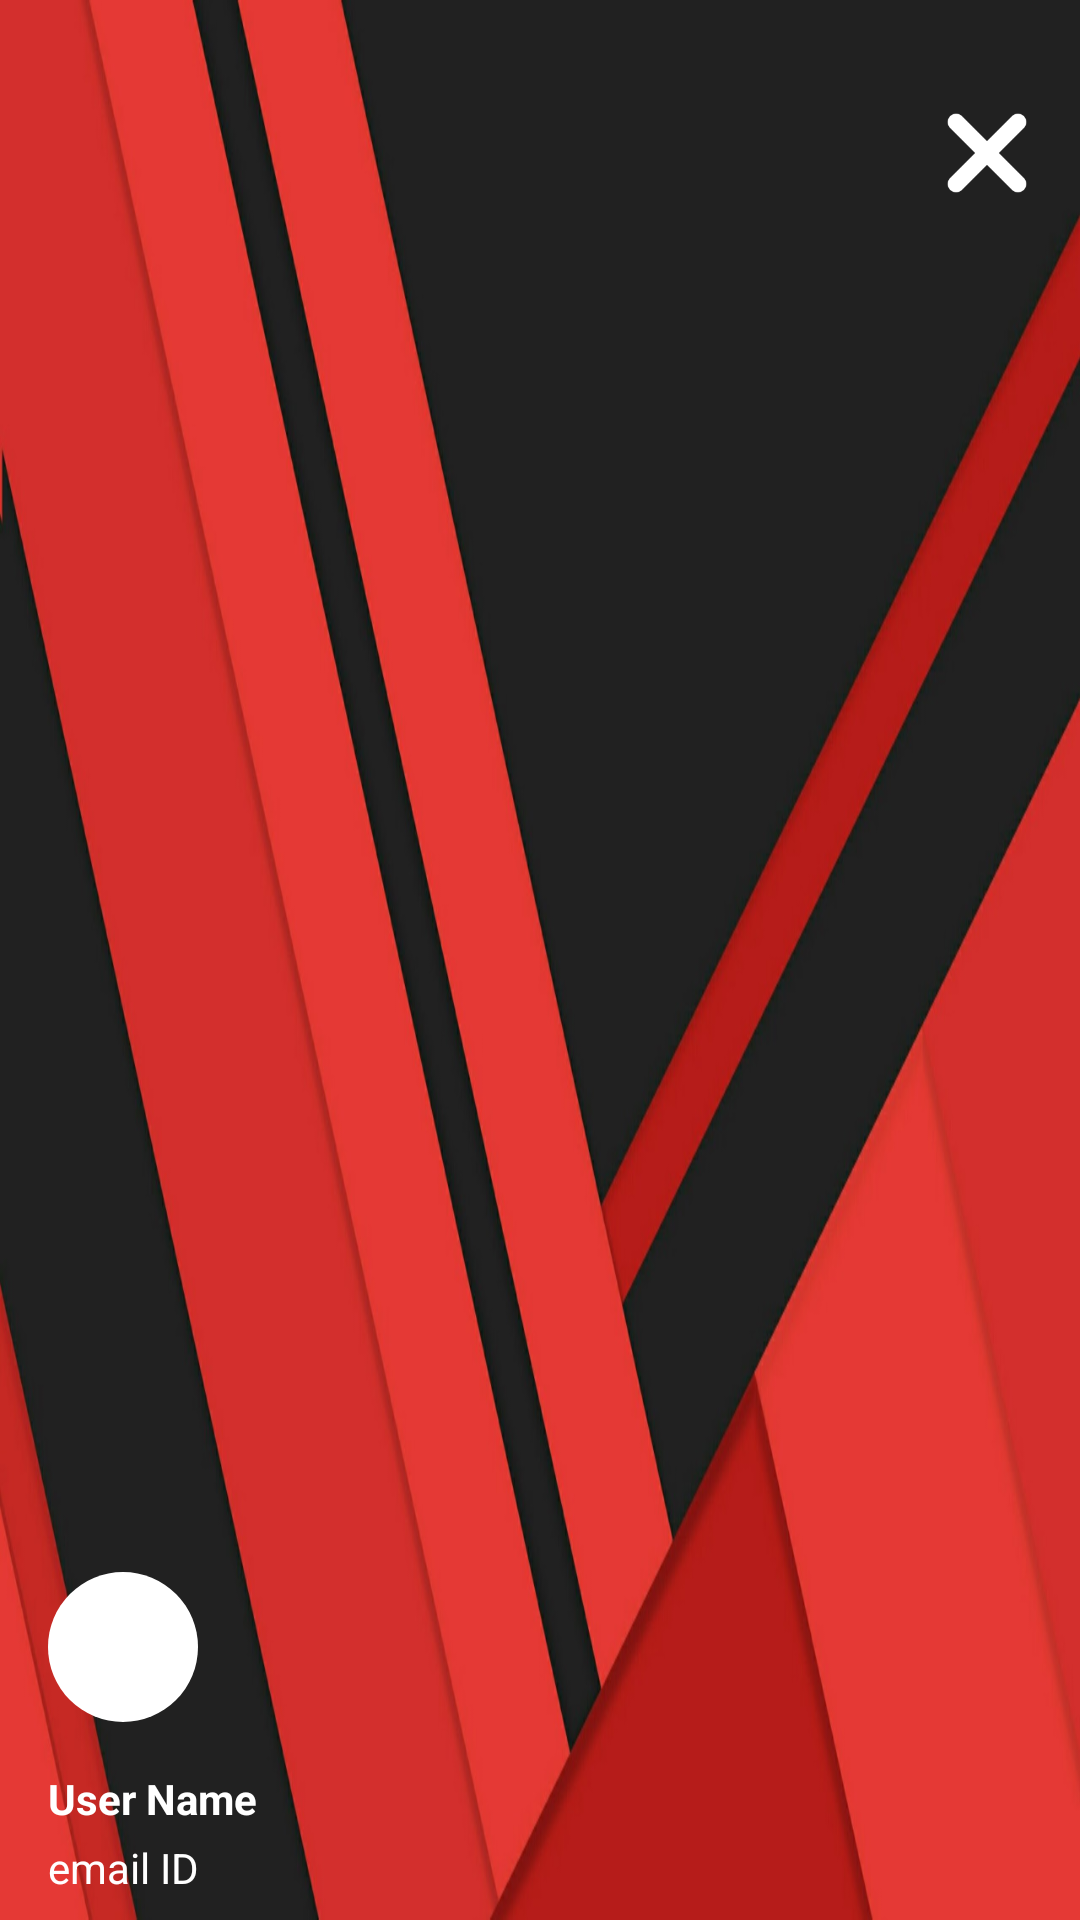

Where to tap for icons on this 1080w x 1920h app screen, as [x,y]:
close: [987,153]
